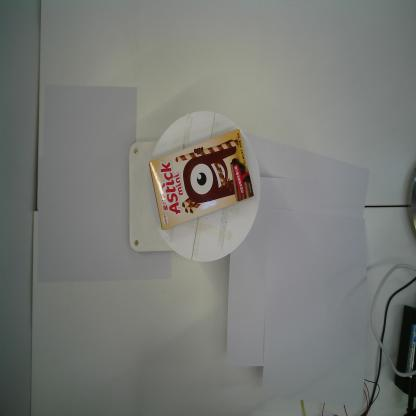Dessert: (149, 128, 254, 230)
